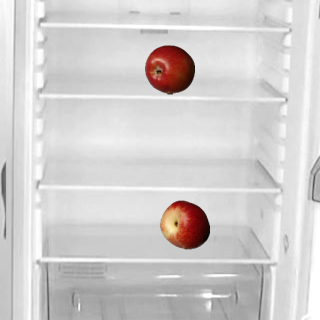Apple Braeburn: (144, 44, 194, 94)
Nectarine: (159, 199, 209, 249)
